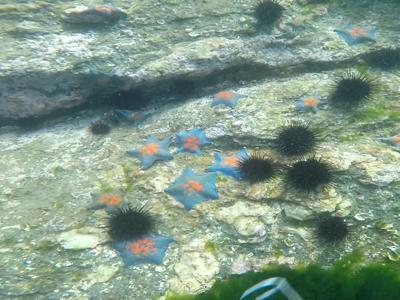urchin: (105, 209, 149, 237), (287, 161, 326, 191), (280, 126, 315, 152), (336, 76, 365, 104), (241, 155, 271, 181), (320, 216, 347, 244), (256, 3, 283, 25), (91, 121, 114, 136)
